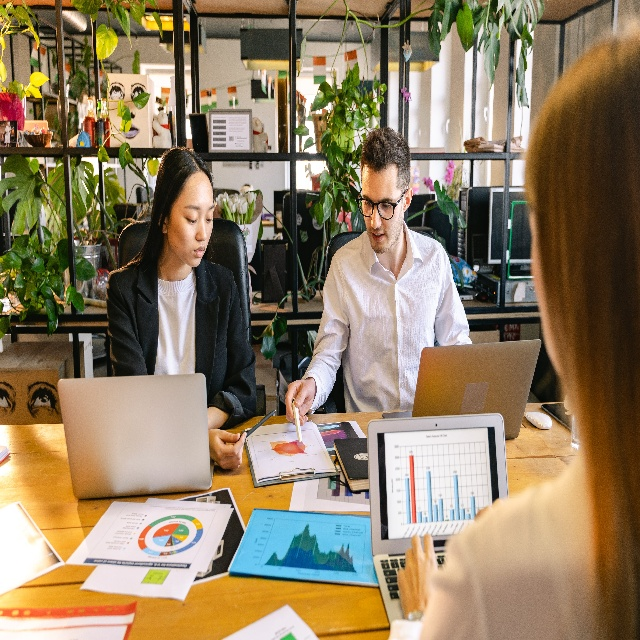Gafas: (356, 188, 408, 218)
Sin_guantes: (396, 534, 438, 620), (208, 428, 247, 470), (285, 380, 315, 426)
